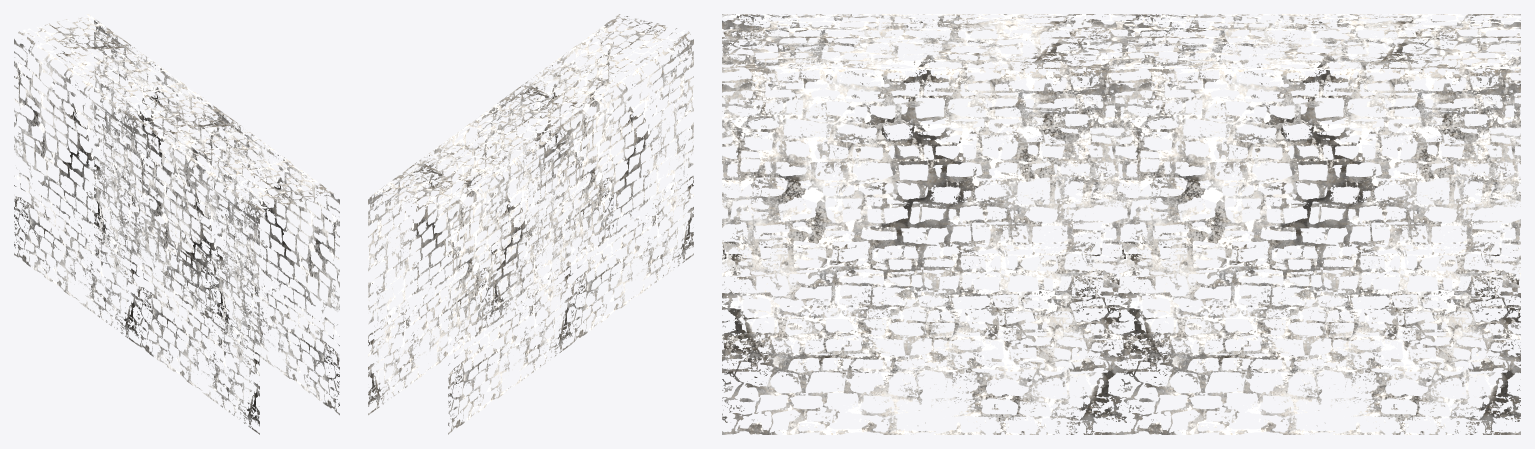
The model's file is SM_basement_A_2x4_01.fbx.
3 renders of one model, left to right at view 1: azimuth 30°, elevation 25°; view 2: azimuth 150°, elevation 25°; view 3: azimuth 270°, elevation 25°, orthographic. The views are drawn at different scales.
Visible parts, largest first — view 1: SM_basement_A_2x4_01_LOD0; view 2: SM_basement_A_2x4_01_LOD0; view 3: SM_basement_A_2x4_01_LOD0.
Boxes of the visible parts, box(x1,y1,x2,y2) form: SM_basement_A_2x4_01_LOD0: box(14, 14, 339, 434); SM_basement_A_2x4_01_LOD0: box(368, 14, 693, 434); SM_basement_A_2x4_01_LOD0: box(722, 14, 1520, 434).
Bounding box in the file's own units: 75 × 400 × 200.
Materials: 1 (1 with a texture image).
